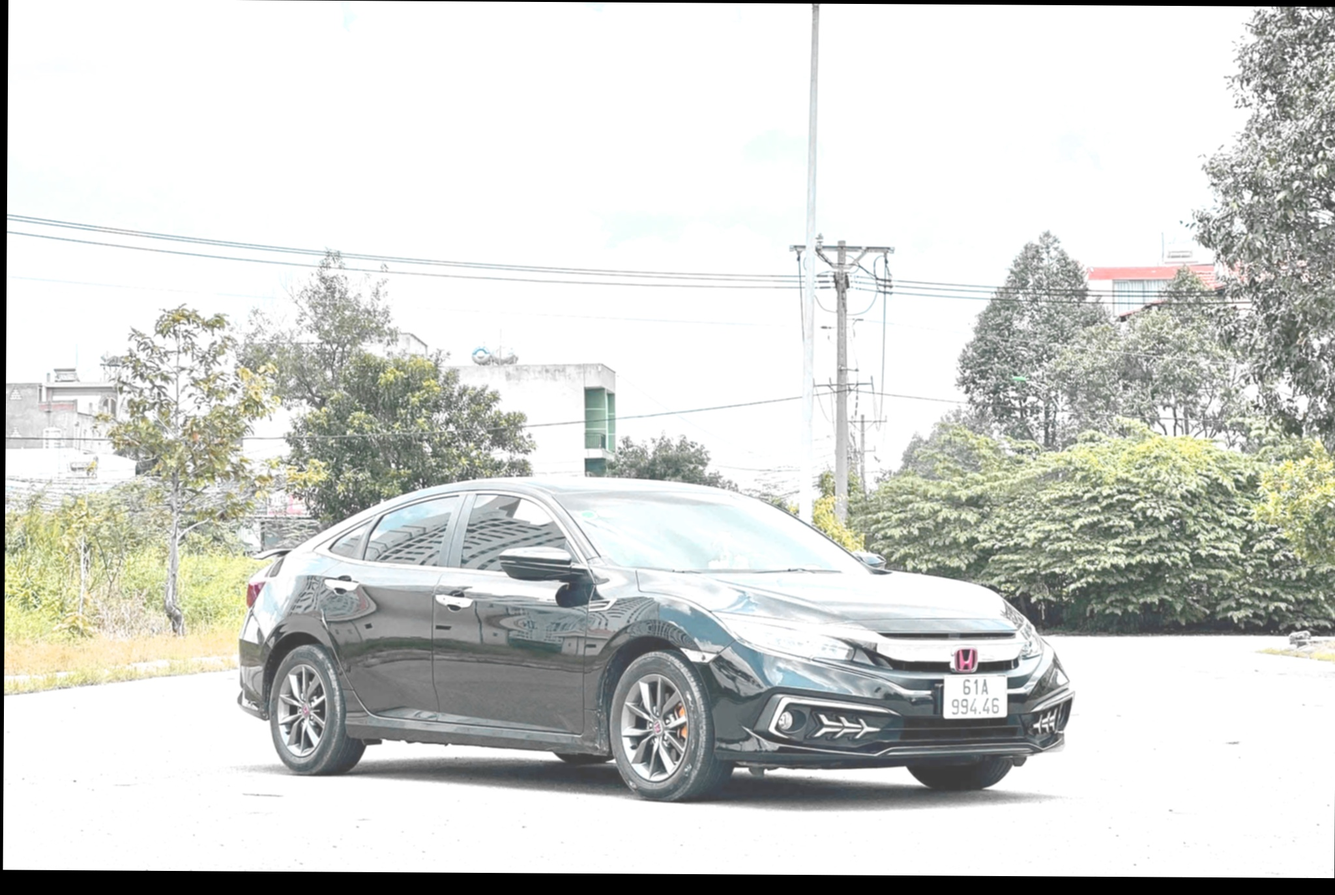Bien-so: (947, 674, 1006, 717)
